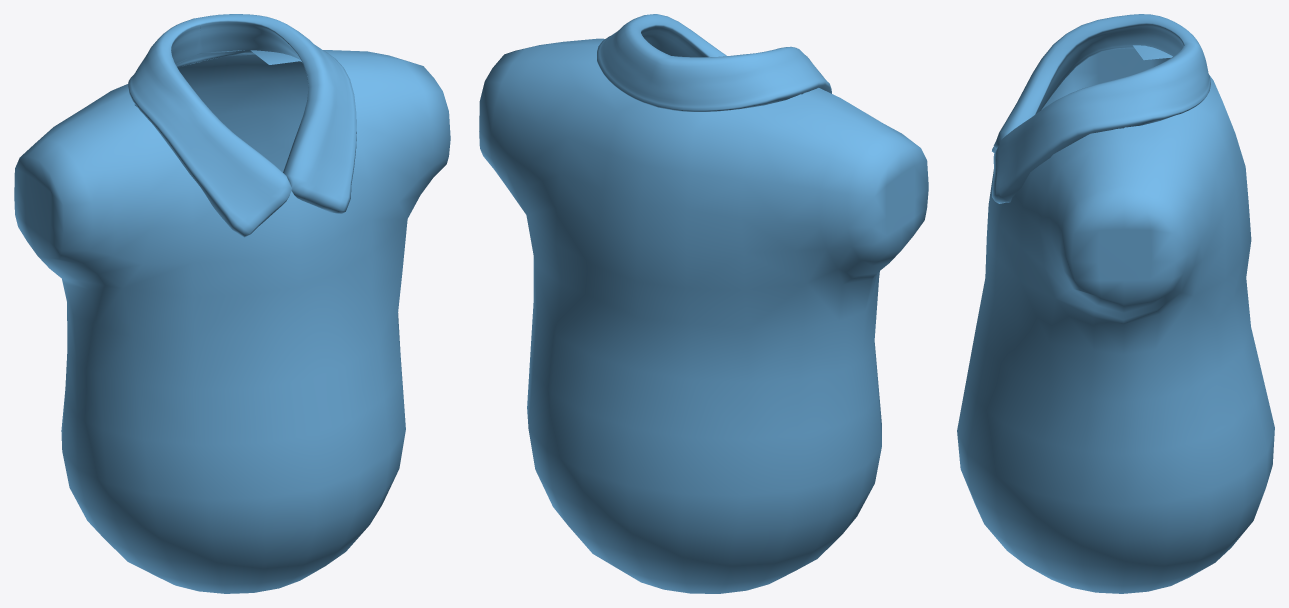
The model's file is clothes_poloshirt.glb.
The picture shows the model from 3 angles, left to right: view 1: azimuth 30°, elevation 25°; view 2: azimuth 150°, elevation 25°; view 3: azimuth 270°, elevation 25°; orthographic projection. The views are drawn at different scales.
Visible parts, largest first — view 1: Soft Polo Shirt; view 2: Soft Polo Shirt; view 3: Soft Polo Shirt.
Boxes of the visible parts, x1,y1,x2,y2 form: Soft Polo Shirt: (14,14,450,593); Soft Polo Shirt: (479,14,928,593); Soft Polo Shirt: (957,14,1274,593).
Size of the model in its own units: 0.4216 by 0.5536 by 0.2986.
